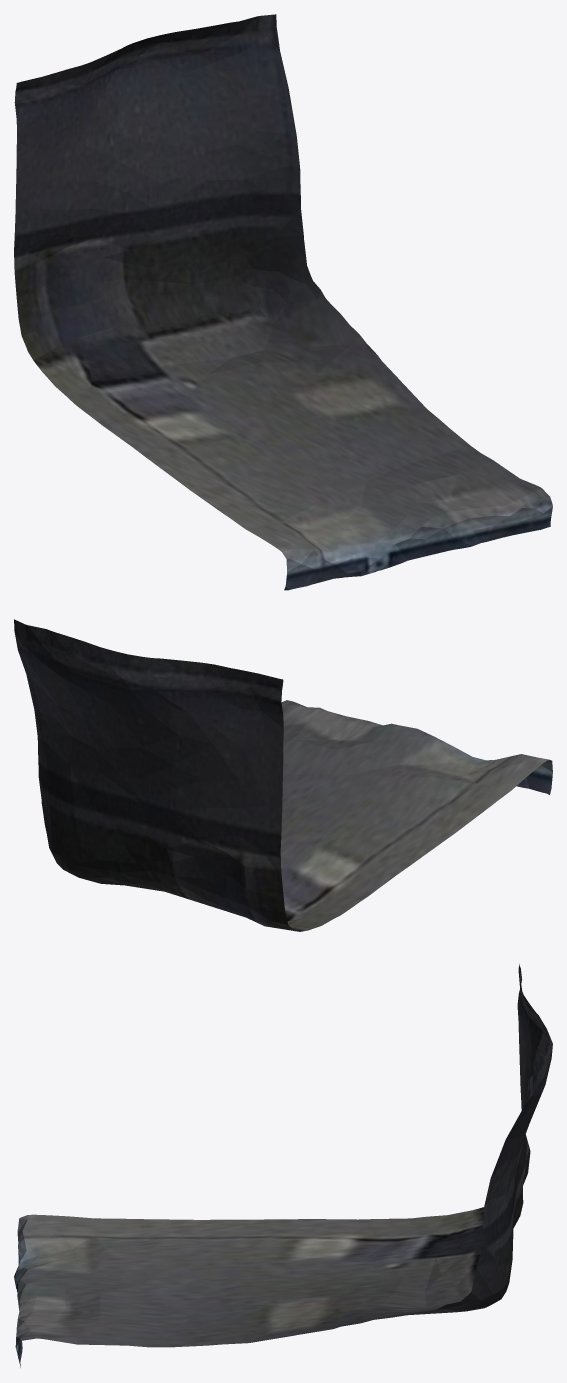
File: tile_5_17_24_tex.obj
3 renders of one model, top to bottom at view 1: azimuth 30°, elevation 25°; view 2: azimuth 150°, elevation 25°; view 3: azimuth 270°, elevation 25°, orthographic. The views are drawn at different scales.
Parts seen in each view (by area): view 1: obj_0; view 2: obj_0; view 3: obj_0.
Part boxes in pixels (x1=…): obj_0: x1=14, y1=14, x2=552, y2=590; obj_0: x1=14, y1=619, x2=552, y2=931; obj_0: x1=14, y1=964, x2=552, y2=1367.
Bounding box in the file's own units: 5.01 × 5.64 × 9.54.
Materials: 1 (1 with a texture image).
